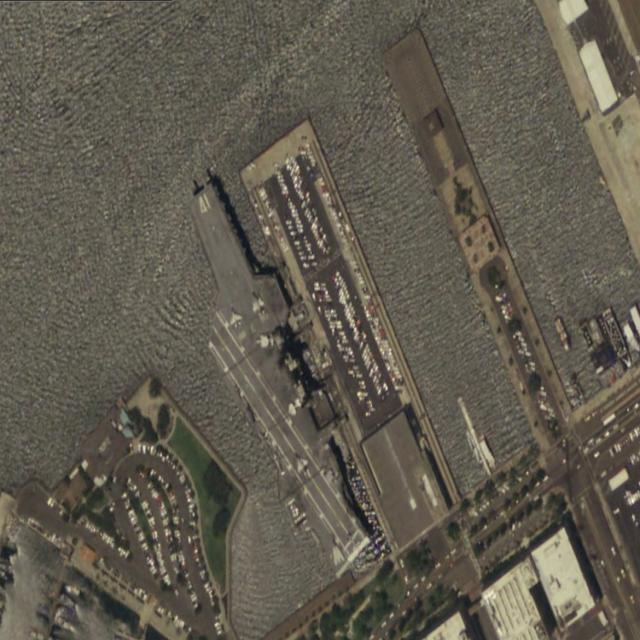Aircraft Carrier: (156, 166, 388, 599)
